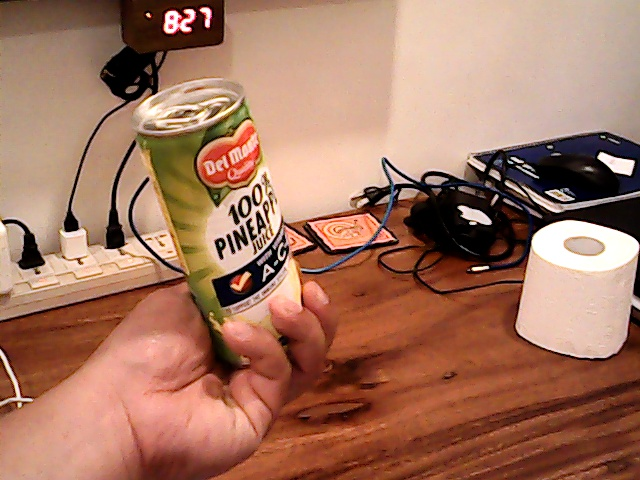Pine Juice: (124, 66, 325, 351)
